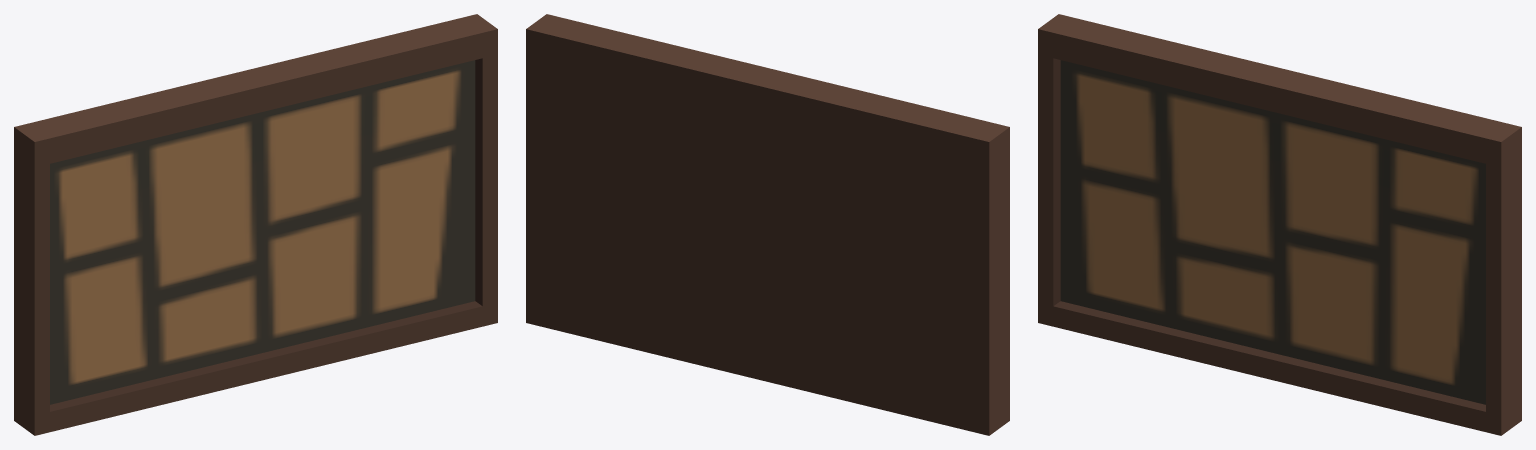
File: Window_E13.fbx
3 views of the same model, side by side, from view 1: azimuth 30°, elevation 25°; view 2: azimuth 150°, elevation 25°; view 3: azimuth 330°, elevation 25° (orthographic).
Parts seen in each view (by area): view 1: Window_E13; view 2: Window_E13; view 3: Window_E13.
Part boxes in pixels (<box>): Window_E13: <box>14,14,497,435</box>; Window_E13: <box>526,14,1009,435</box>; Window_E13: <box>1038,14,1521,435</box>.
Size of the model in its own units: 375 by 227 by 28.95.
